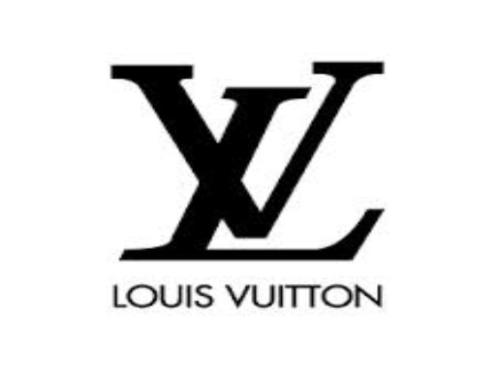LOUIS-VUITTON: (97, 45, 402, 270), (97, 275, 388, 329)
